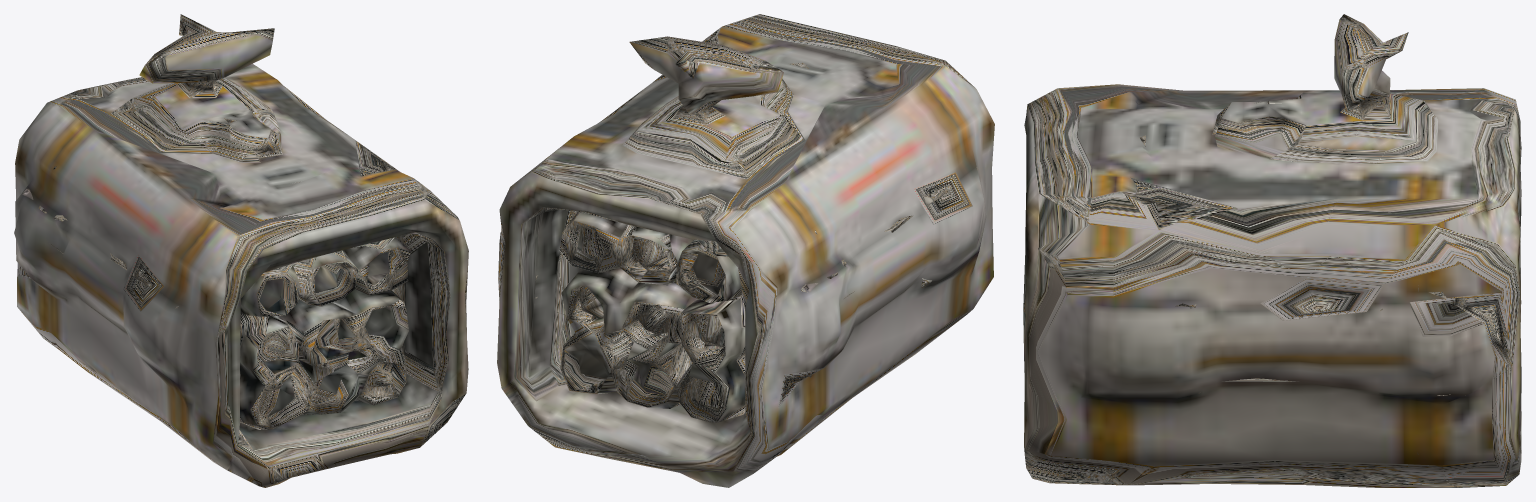
3 renders of one model, left to right at view 1: azimuth 30°, elevation 25°; view 2: azimuth 150°, elevation 25°; view 3: azimuth 270°, elevation 25°, orthographic. The views are drawn at different scales.
Size of the model in its own units: 0.8464 by 0.8862 by 0.9805.
Materials: 1 (1 with a texture image).
